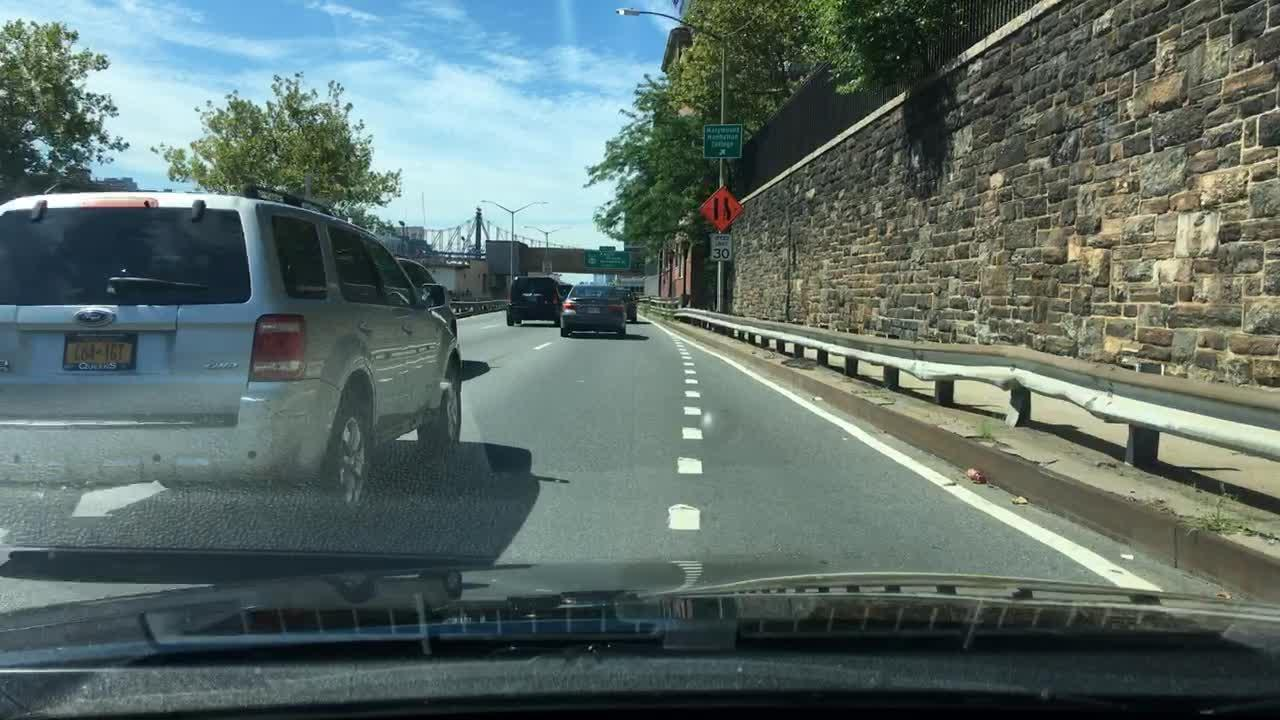ford: (63, 300, 124, 331)
